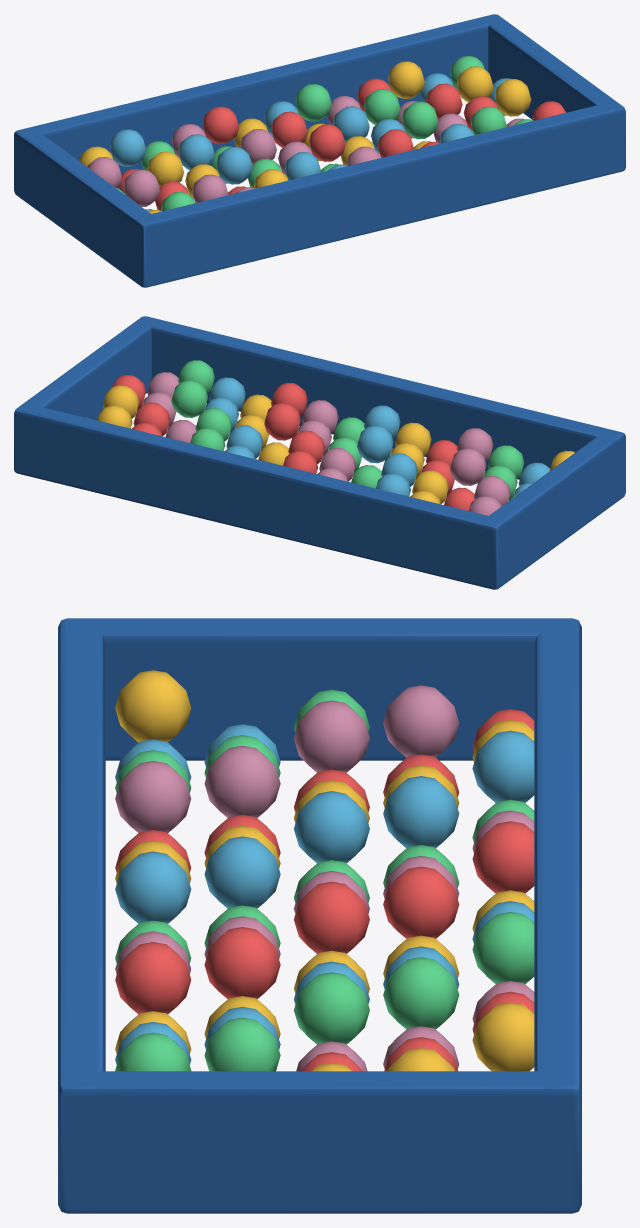
File: ball-pit.glb
3 views of the same model, one above another, from view 1: azimuth 30°, elevation 25°; view 2: azimuth 150°, elevation 25°; view 3: azimuth 270°, elevation 25° (orthographic). The views are drawn at different scales.
Parts seen in each view (by area): view 1: part-pit, part-ball-0, part-ball-2, part-ball-1, part-ball-3, part-ball-4; view 2: part-pit, part-ball-4, part-ball-0, part-ball-2, part-ball-3, part-ball-1; view 3: part-pit, part-ball-0, part-ball-2, part-ball-3, part-ball-4, part-ball-1.
Boxes of the visible parts, x1=… form: part-pit: x1=14, y1=14, x2=625, y2=287; part-ball-0: x1=117, y1=78, x2=565, y2=210; part-ball-2: x1=109, y1=73, x2=510, y2=211; part-ball-1: x1=79, y1=61, x2=531, y2=213; part-ball-3: x1=115, y1=56, x2=533, y2=211; part-ball-4: x1=87, y1=96, x2=523, y2=206; part-pit: x1=14, y1=316, x2=625, y2=589; part-ball-4: x1=142, y1=372, x2=510, y2=515; part-ball-0: x1=111, y1=375, x2=474, y2=510; part-ball-2: x1=86, y1=377, x2=550, y2=496; part-ball-3: x1=171, y1=360, x2=524, y2=500; part-ball-1: x1=97, y1=385, x2=574, y2=504; part-pit: x1=58, y1=618, x2=581, y2=1213; part-ball-0: x1=115, y1=709, x2=534, y2=1071; part-ball-2: x1=115, y1=724, x2=534, y2=1064; part-ball-3: x1=115, y1=689, x2=534, y2=1071; part-ball-4: x1=115, y1=685, x2=534, y2=1071; part-ball-1: x1=115, y1=670, x2=534, y2=1071.
Size of the model in its own units: 94 by 12.2 by 44.
